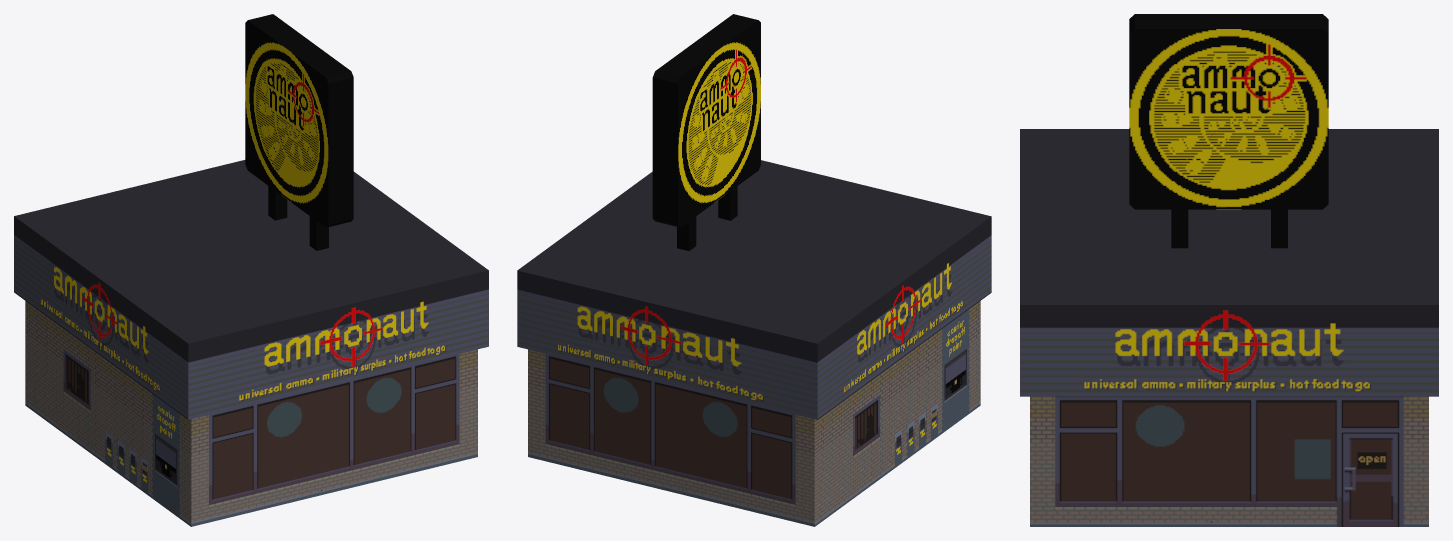
The model's file is ammonautbuilding.glb.
3 views of the same model, side by side, from view 1: azimuth 30°, elevation 25°; view 2: azimuth 150°, elevation 25°; view 3: azimuth 270°, elevation 25° (orthographic). The views are drawn at different scales.
Parts seen in each view (by area): view 1: ammonaut building; view 2: ammonaut building; view 3: ammonaut building.
Boxes of the visible parts, x1,y1,x2,y2 form: ammonaut building: [14, 14, 488, 526]; ammonaut building: [517, 14, 991, 526]; ammonaut building: [1020, 14, 1438, 526].
Size of the model in its own units: 8.37 by 9.95 by 8.4.
2 materials, 2 textured.
